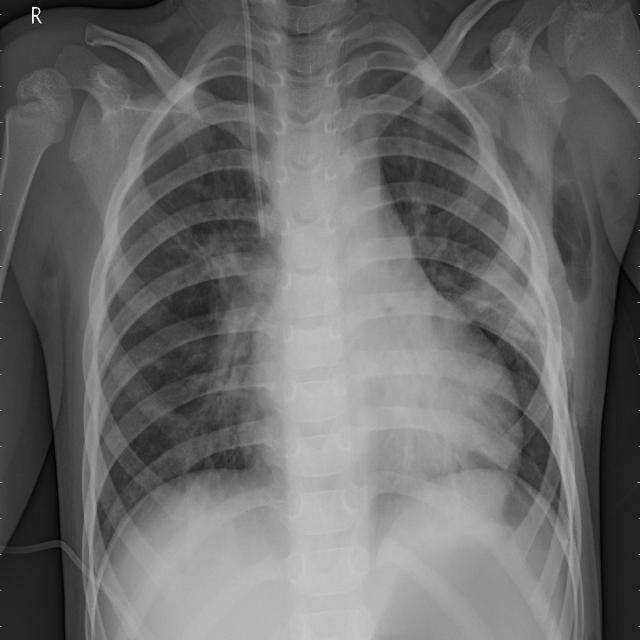low-pneumonia: (203, 246, 289, 429), (463, 231, 553, 362)
